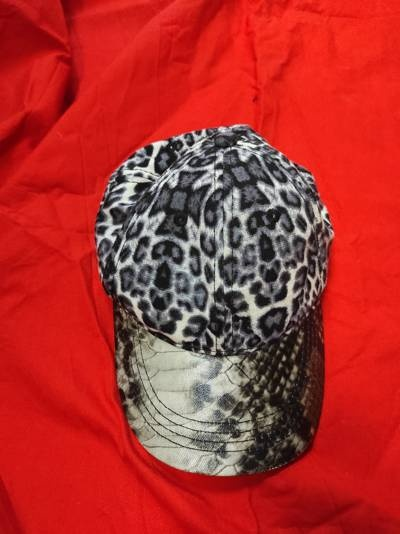Hat: (87, 79, 352, 494)
